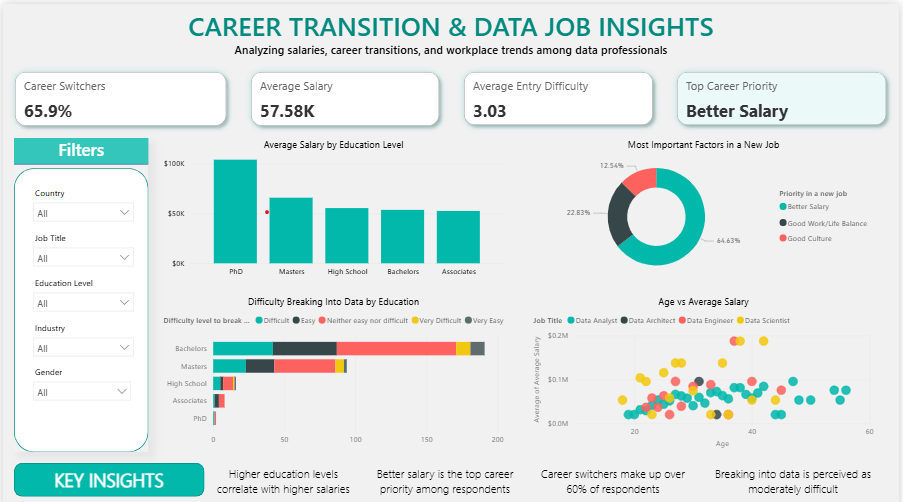

What the dashboard file says about the page in this screenshot:
{"tool":"powerbi","page":{"name":"Page 2","canvas":[1280,720],"ordinal":0},"visuals":[{"type":"textbox","box":[0,0,1280,80],"z":0},{"type":"columnChart","title":"Average Salary by Education Level","fields":{"Category":["Data Professional Survey.Education"],"Y":["Avg(Data Professional Survey.Average Salary)"]},"box":[224,192,496,208],"z":0,"group":"g2"},{"type":"group","id":"g1","title":"Group 1","box":[0,80,1280,112],"z":1000},{"type":"cardVisual","fields":{"Data":["Data Professional Survey.Career Switchers %"]},"box":[0,80,336,112],"z":1000,"group":"g1"},{"type":"donutChart","title":"Most Important Factors in a New Job","fields":{"Category":["Data Professional Survey.Priority in a new job"],"Y":["CountNonNull(Data Professional Survey.Priority in a new job)"]},"box":[752,192,496,208],"z":1000,"group":"g2"},{"type":"cardVisual","fields":{"Data":["Data Professional Survey.Avg Salary"]},"box":[337.6,80.7,303.1,111.3],"z":2000,"group":"g1"},{"type":"shape","title":"Filters","box":[16,192,192,448],"z":2000},{"type":"cardVisual","title":"Happiness with Salary","fields":{"Data":["Min(Data Professional Survey.Q8 - If you were to look for a new job today, what would be the most important thing to you"]},"box":[946.3,80,333.7,110.8],"z":3000,"group":"g1"},{"type":"group","id":"g2","title":"Group 3","box":[224,192,1024,208],"z":3000},{"type":"slicer","fields":{"Values":["Data Professional Survey.Q11 - Which Country do you live in?.1"]},"box":[32.4,256,163.8,64.1],"z":3000,"group":"g4"},{"type":"cardVisual","title":"Happiness with Work/Life Balance","fields":{"Data":["Data Professional Survey.Avg Difficulty"]},"box":[642.1,80,304.2,110.8],"z":4000,"group":"g1"},{"type":"slicer","fields":{"Values":["Data Professional Survey.Q1 - Which Title Best Fits your Current Role?.1"]},"box":[32.4,320.1,163.8,65.1],"z":4000,"group":"g4"},{"type":"group","id":"g3","title":"Group 5","box":[224,416,1024,224],"z":4000},{"type":"barChart","title":"Difficulty Breaking Into Data by Education","fields":{"Category":["Data Professional Survey.Education"],"Series":["Data Professional Survey.Difficulty level to break into Data"],"Y":["CountNonNull(Data Professional Survey.Difficulty level to break into Data)"]},"box":[224,416,496,224],"z":4000,"group":"g3"},{"type":"group","id":"g4","title":"Group 2","box":[32.4,256,163.8,320],"z":5000},{"type":"slicer","fields":{"Values":["Data Professional Survey.Q12 - Highest Level of Education"]},"box":[32.4,385.2,163.8,64.1],"z":5000,"group":"g4"},{"type":"scatterChart","title":"Age vs Average Salary","fields":{"X":["Data Professional Survey.Age"],"Y":["Avg(Data Professional Survey.Average Salary)"],"Series":["Data Professional Survey.Job Title"]},"box":[752,416,496,224],"z":5000,"group":"g3"},{"type":"slicer","fields":{"Values":["Data Professional Survey.Q4 - What Industry do you work in?.1"]},"box":[32.4,449.3,163.8,65.1],"z":6000,"group":"g4"},{"type":"textbox","box":[512,656,240,64],"z":6000},{"type":"slicer","fields":{"Values":["Data Professional Survey.Q9 - Male/Female?"]},"box":[32.4,512,160,64],"z":7000,"group":"g4"},{"type":"textbox","box":[288,656,224,64],"z":7000},{"type":"textbox","box":[752,656,240,64],"z":8000},{"type":"textbox","box":[1008,656,240,64],"z":9000},{"type":"shape","box":[16,656,272,48],"z":10000},{"type":"textbox","box":[16,656,272,48],"z":11000}]}

Visuals, with their boxes in screenshot pixels (x1, y1, x2, y2), scaled from the page's 1280x720 canvas onto the 903x502 screenshot:
textbox: select_region(0, 0, 902, 56)
"Average Salary by Education Level" columnChart: select_region(158, 134, 508, 279)
"Group 1" group: select_region(0, 56, 902, 134)
cardVisual - Data Professional Survey.Career Switchers %: select_region(0, 56, 237, 134)
"Most Important Factors in a New Job" donutChart: select_region(531, 134, 880, 279)
cardVisual - Data Professional Survey.Avg Salary: select_region(238, 56, 452, 134)
"Filters" shape: select_region(11, 134, 147, 446)
"Happiness with Salary" cardVisual: select_region(668, 56, 902, 133)
"Group 3" group: select_region(158, 134, 880, 279)
slicer - Data Professional Survey.Q11 - Which Country do you live in?.1: select_region(23, 178, 138, 223)
"Happiness with Work/Life Balance" cardVisual: select_region(453, 56, 668, 133)
slicer - Data Professional Survey.Q1 - Which Title Best Fits your Current Role?.1: select_region(23, 223, 138, 269)
"Group 5" group: select_region(158, 290, 880, 446)
"Difficulty Breaking Into Data by Education" barChart: select_region(158, 290, 508, 446)
"Group 2" group: select_region(23, 178, 138, 402)
slicer - Data Professional Survey.Q12 - Highest Level of Education: select_region(23, 269, 138, 313)
"Age vs Average Salary" scatterChart: select_region(531, 290, 880, 446)
slicer - Data Professional Survey.Q4 - What Industry do you work in?.1: select_region(23, 313, 138, 359)
textbox: select_region(361, 457, 531, 501)
slicer - Data Professional Survey.Q9 - Male/Female?: select_region(23, 357, 136, 402)
textbox: select_region(203, 457, 361, 501)
textbox: select_region(531, 457, 700, 501)
textbox: select_region(711, 457, 880, 501)
shape: select_region(11, 457, 203, 491)
textbox: select_region(11, 457, 203, 491)
